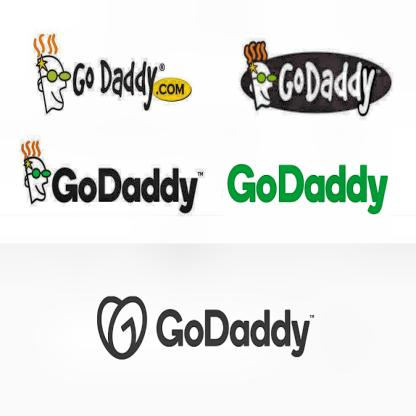Go Daddy: (17, 136, 206, 223), (237, 36, 390, 122), (31, 32, 192, 112), (227, 159, 390, 224), (155, 298, 311, 358), (98, 291, 149, 363)
